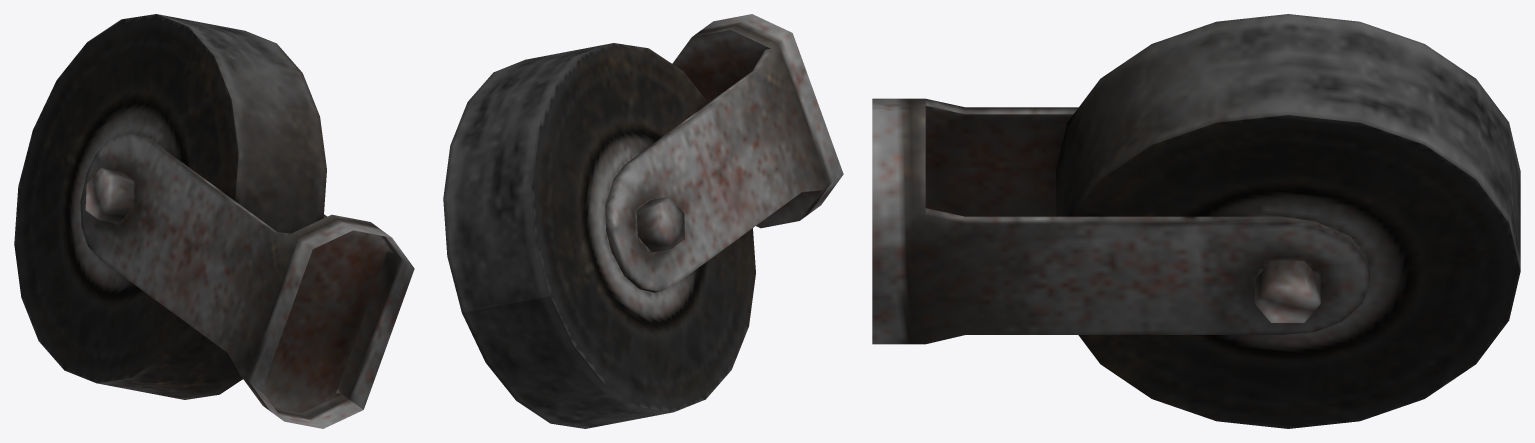
The model's file is Tool_Cabinet_Wheel_Front_low.obj.
The picture shows the model from 3 angles, left to right: view 1: azimuth 30°, elevation 25°; view 2: azimuth 150°, elevation 25°; view 3: azimuth 270°, elevation 25°; orthographic projection. The views are drawn at different scales.
Size of the model in its own units: 0.0666 by 0.1053 by 0.1418.
Materials: 1 (1 with a texture image).
